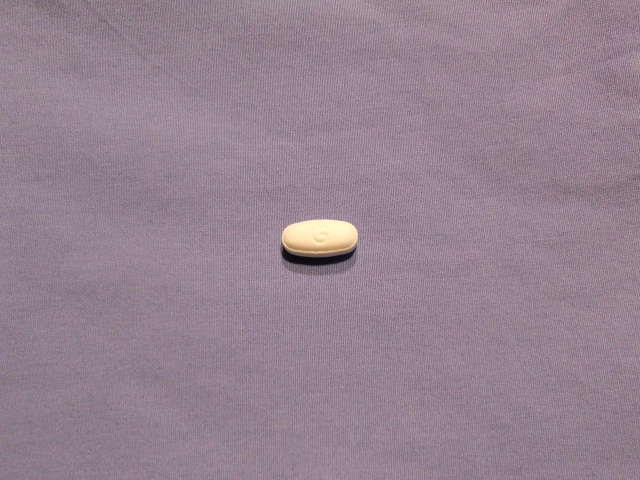G: (310, 220, 334, 246)
